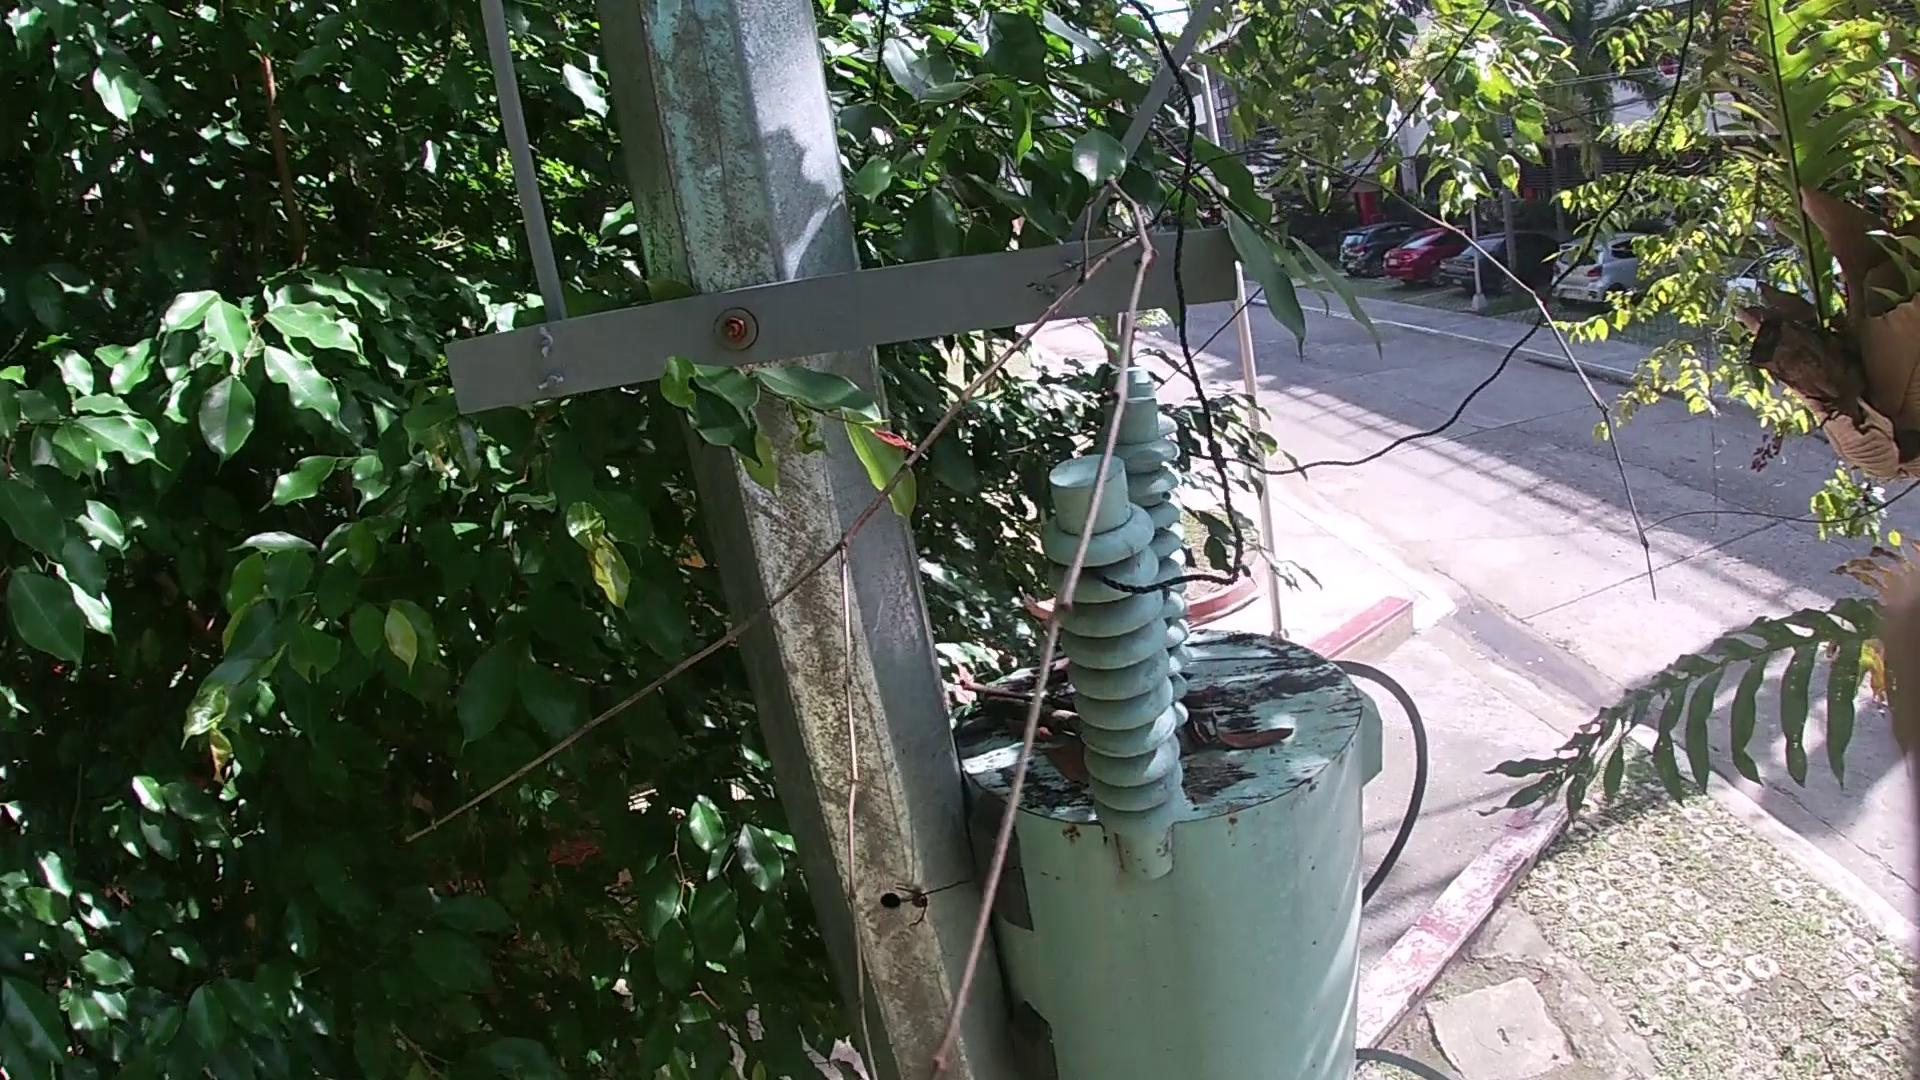leaf: (1211, 709, 1300, 753), (1040, 735, 1096, 789), (1002, 713, 1054, 745)
tree branch: (398, 138, 1663, 1077), (952, 679, 1083, 735), (1191, 585, 1262, 638)
